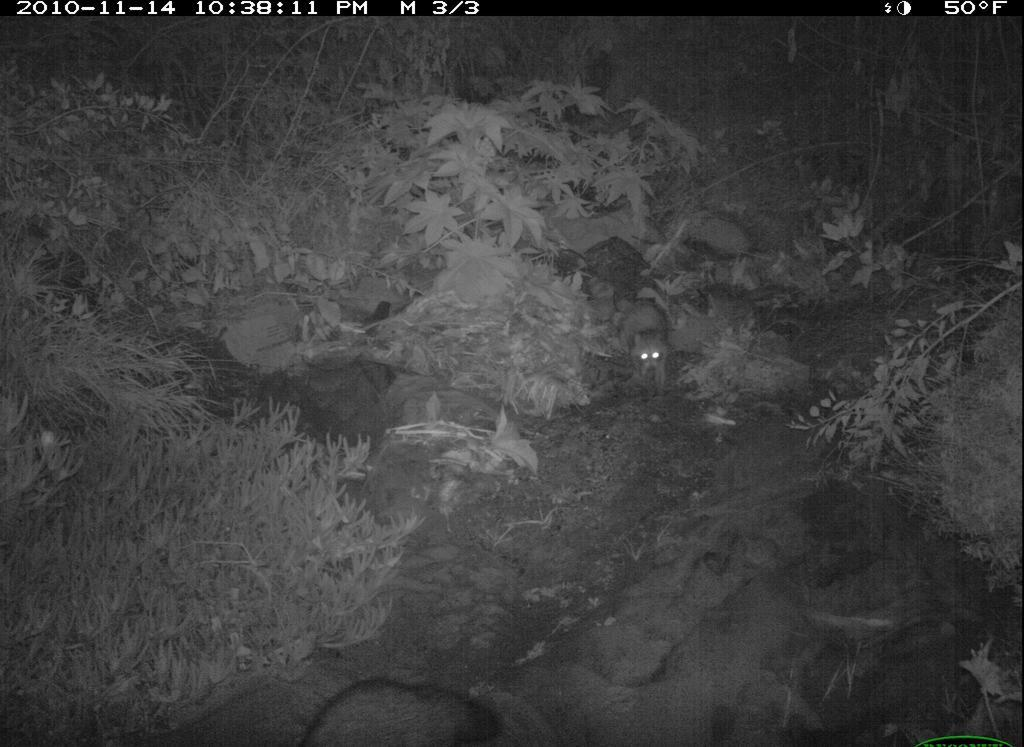raccoon: (287, 670, 514, 747), (616, 289, 687, 401)
